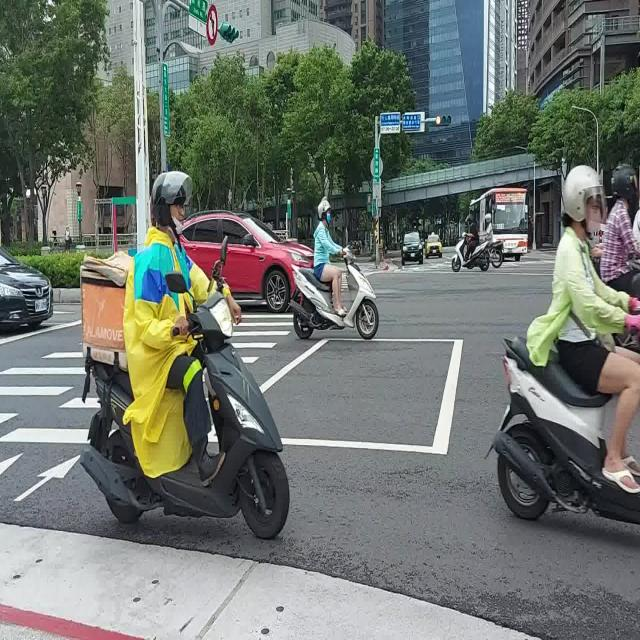bus: (470, 187, 529, 259)
car: (181, 209, 311, 311), (0, 249, 52, 328), (401, 231, 424, 267), (425, 233, 442, 258)
crosswalk: (0, 340, 86, 425), (0, 391, 98, 445), (232, 309, 293, 365)
motocycle: (80, 291, 289, 538), (491, 338, 640, 524), (290, 251, 379, 340), (451, 233, 490, 271)
